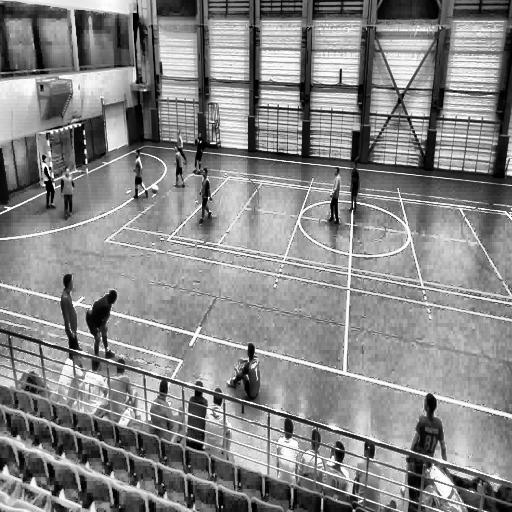ball: (152, 184, 158, 193)
player: (86, 286, 118, 360), (60, 274, 82, 352), (40, 153, 56, 210), (133, 148, 149, 200), (190, 128, 206, 176), (199, 166, 212, 224), (61, 166, 75, 218), (328, 166, 340, 224), (350, 158, 361, 214), (174, 142, 187, 188), (175, 126, 187, 167)
